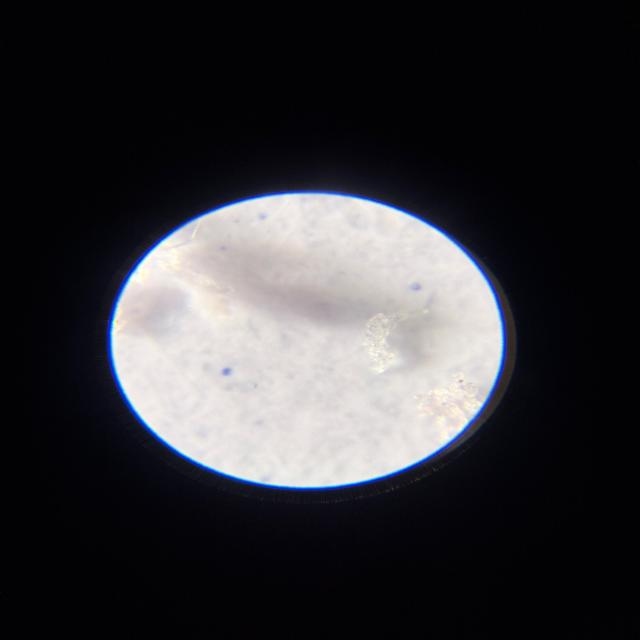microplastic_type_1: (416, 374, 490, 439), (363, 312, 411, 374)
